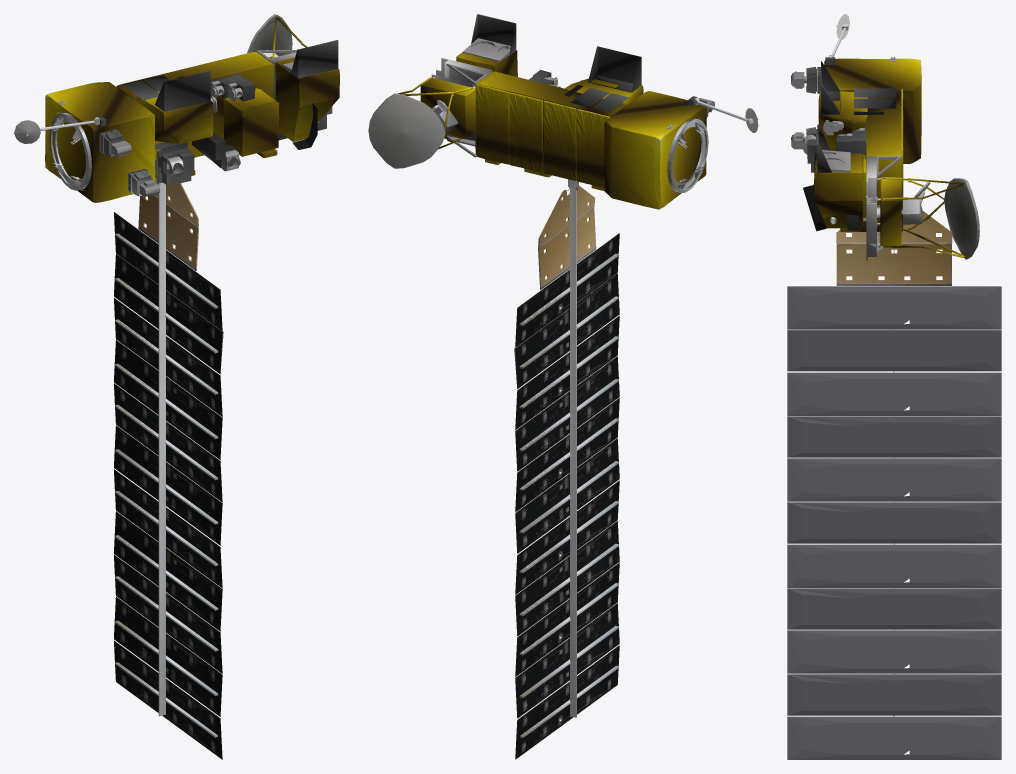
Rendered from aqua.glb.
3 renders of one model, left to right at view 1: azimuth 30°, elevation 25°; view 2: azimuth 150°, elevation 25°; view 3: azimuth 270°, elevation 25°, orthographic. The views are drawn at different scales.
Visible parts, largest first — view 1: tex_01, foil_gold, foil_silver, shiny_panel; view 2: tex_01, foil_gold, gold_2, foil_silver, shiny_panel; view 3: shiny_panel, foil_gold, tex_01, foil_silver, black_krinkle.
Boxes of the visible parts, bbox=[...] form: tex_01: bbox=[14, 14, 319, 759]; foil_gold: bbox=[45, 17, 339, 202]; foil_silver: bbox=[98, 40, 338, 196]; shiny_panel: bbox=[116, 223, 223, 757]; tex_01: bbox=[368, 38, 758, 759]; foil_gold: bbox=[398, 50, 706, 209]; gold_2: bbox=[476, 84, 610, 187]; foil_silver: bbox=[431, 14, 711, 140]; shiny_panel: bbox=[514, 238, 617, 754]; shiny_panel: bbox=[787, 286, 1001, 759]; foil_gold: bbox=[814, 58, 964, 257]; tex_01: bbox=[791, 14, 979, 754]; foil_silver: bbox=[795, 57, 922, 260]; black_krinkle: bbox=[803, 111, 883, 231].
Size of the model in its own units: 9.4 by 17.78 by 5.08.
Materials: 5 (3 with a texture image).
